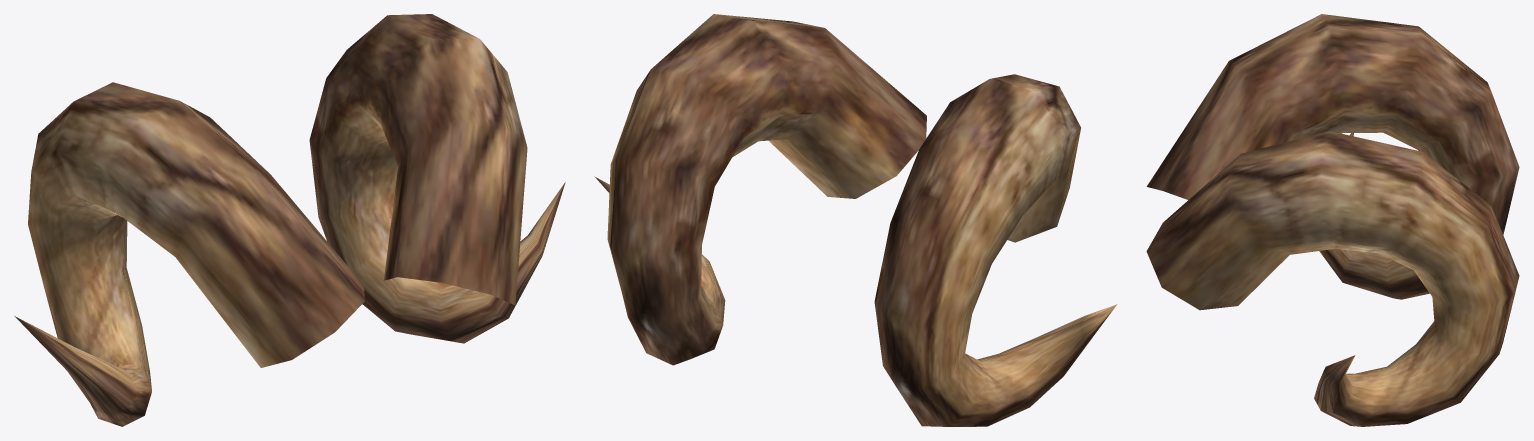
The model's file is b_n_argonian_m_hair05.glb.
3 views of the same model, side by side, from view 1: azimuth 30°, elevation 25°; view 2: azimuth 150°, elevation 25°; view 3: azimuth 270°, elevation 25° (orthographic). The views are drawn at different scales.
Parts seen in each view (by area): view 1: Tri B_N_Argonian_M_Hair05; view 2: Tri B_N_Argonian_M_Hair05; view 3: Tri B_N_Argonian_M_Hair05.
Part boxes in pixels (x1=…): Tri B_N_Argonian_M_Hair05: x1=14, y1=14, x2=565, y2=426; Tri B_N_Argonian_M_Hair05: x1=594, y1=14, x2=1117, y2=426; Tri B_N_Argonian_M_Hair05: x1=1146, y1=14, x2=1519, y2=426.
Bounding box in the file's own units: 0.1895 × 0.1085 × 0.1302.
Materials: 1 (1 with a texture image).
